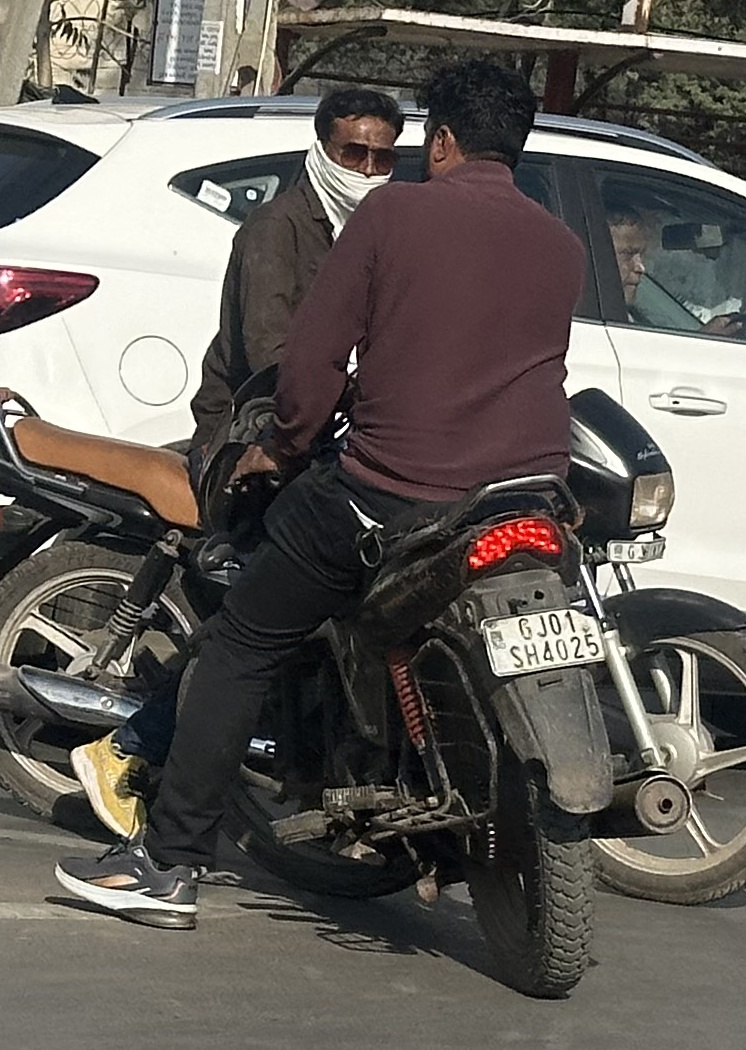BikeWithRider: (3, 50, 709, 975)
NoHelmet: (407, 45, 551, 193), (287, 78, 417, 221)
